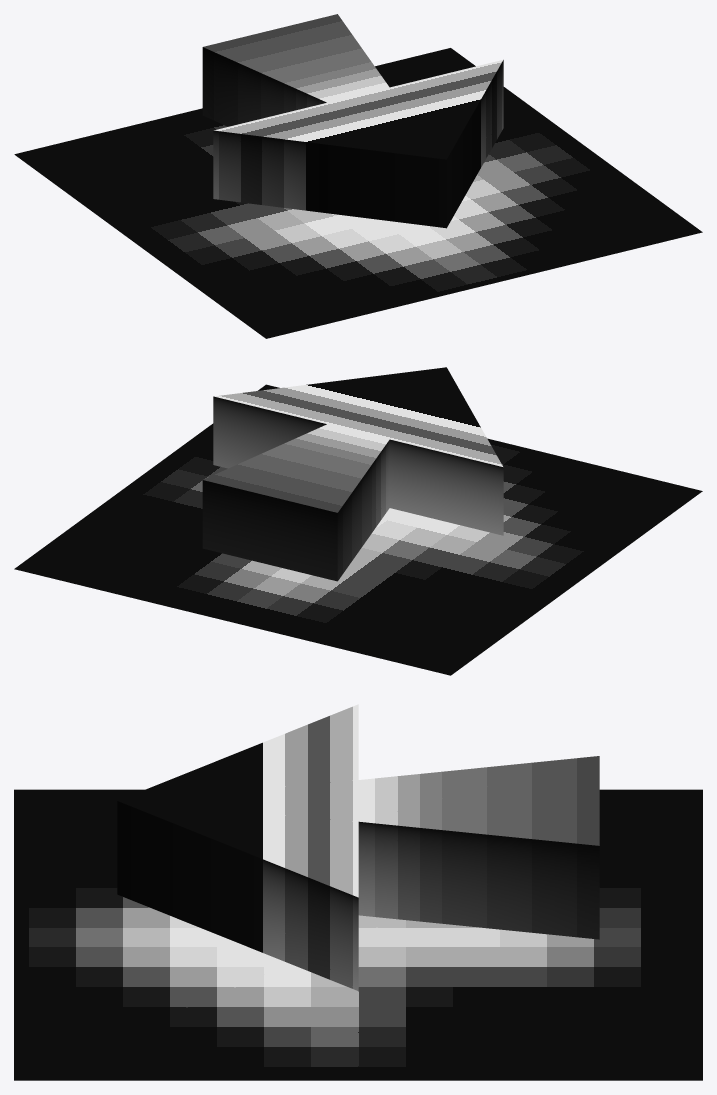
Rendered from glf_wind__glf_windArrow.glb.
The picture shows the model from 3 angles, top to bottom: view 1: azimuth 30°, elevation 25°; view 2: azimuth 150°, elevation 25°; view 3: azimuth 270°, elevation 25°; orthographic projection. The views are drawn at different scales.
Visible parts, largest first — view 1: polygon1, polygon0; view 2: polygon1, polygon0; view 3: polygon1, polygon0.
Part boxes in pixels (x1,y1,x2,y2): polygon1: [14, 48, 702, 338]; polygon0: [202, 14, 503, 228]; polygon1: [14, 384, 702, 675]; polygon0: [202, 367, 503, 581]; polygon1: [14, 789, 702, 1080]; polygon0: [117, 704, 599, 990].
Size of the model in its own units: 50 by 10.75 by 50.
2 materials, 2 textured.
